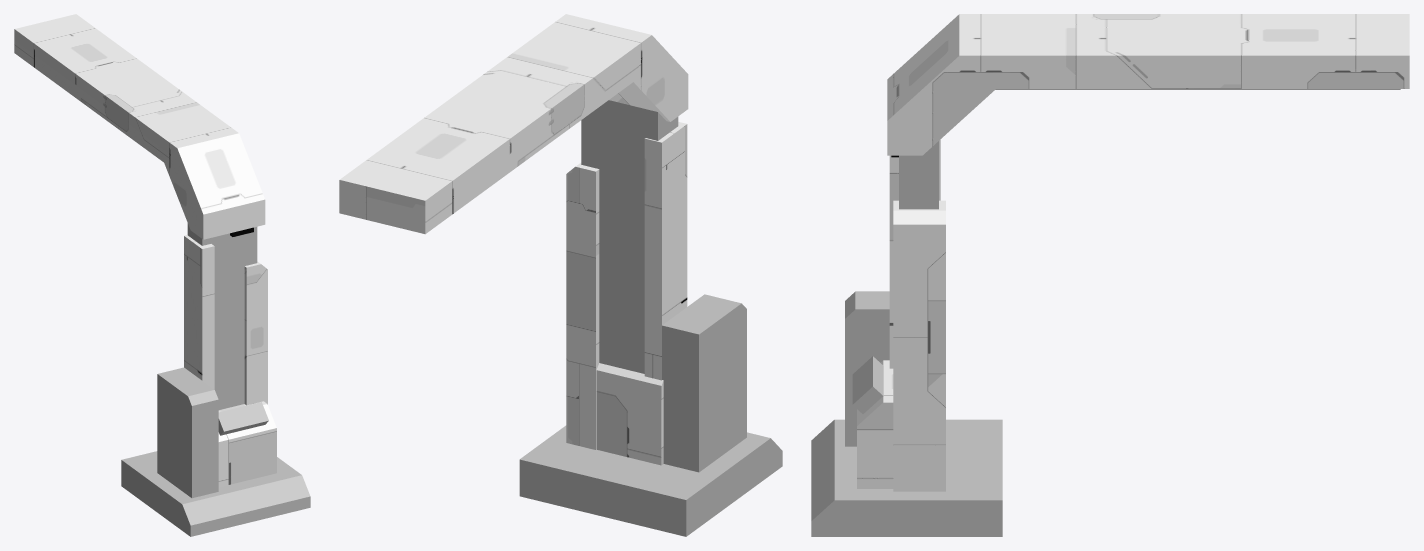
File: SM_BuildingExtra_Pillar_2.fbx
3 renders of one model, left to right at view 1: azimuth 30°, elevation 25°; view 2: azimuth 150°, elevation 25°; view 3: azimuth 270°, elevation 25°, orthographic. The views are drawn at different scales.
Parts seen in each view (by area): view 1: SM_BuildingExtra_Pillar_2; view 2: SM_BuildingExtra_Pillar_2; view 3: SM_BuildingExtra_Pillar_2.
Part boxes in pixels (box(x1,y1,x2,y2)): SM_BuildingExtra_Pillar_2: box(14, 14, 310, 536); SM_BuildingExtra_Pillar_2: box(339, 14, 782, 536); SM_BuildingExtra_Pillar_2: box(811, 14, 1409, 536).
Bounding box in the file's own units: 199 × 538 × 622.
